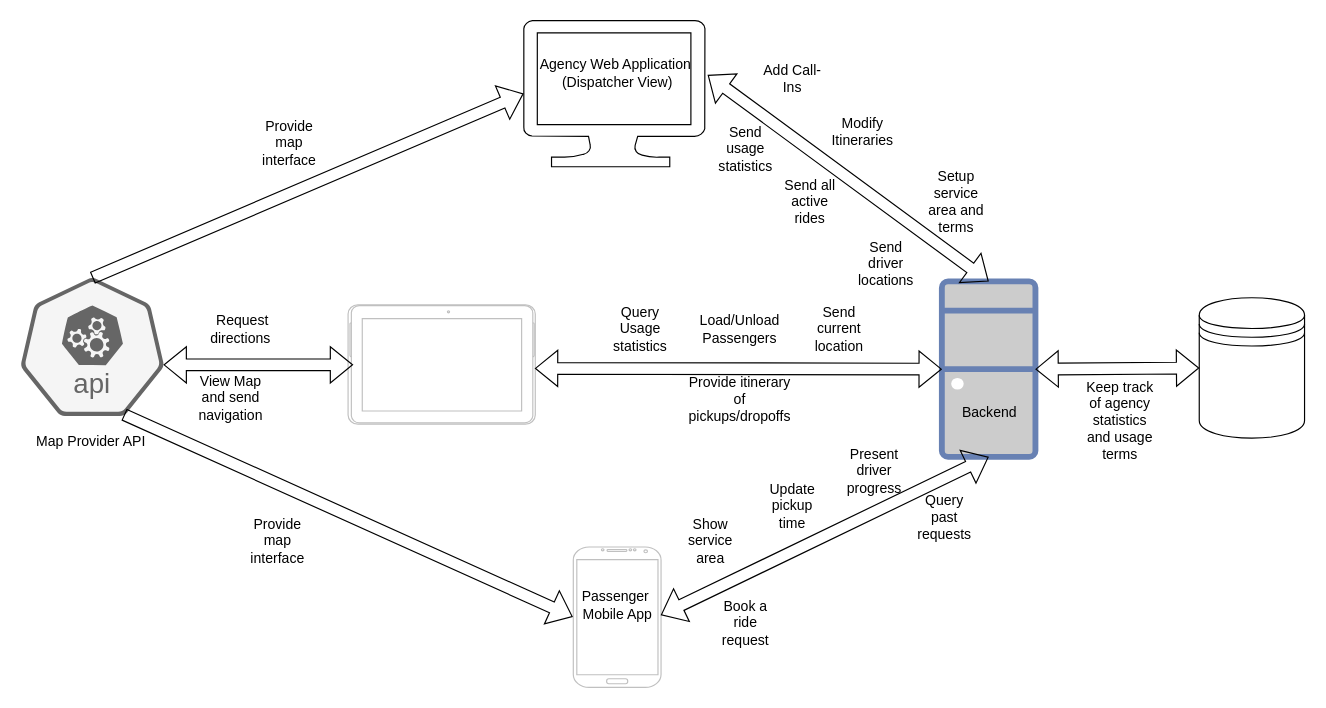
Image size: 1326x708. Some labels were removed from this diagram. Each missing label, with the box of its shape:
Database: (1198, 297, 1305, 438)
Driver Mobile App: (347, 304, 535, 424)
